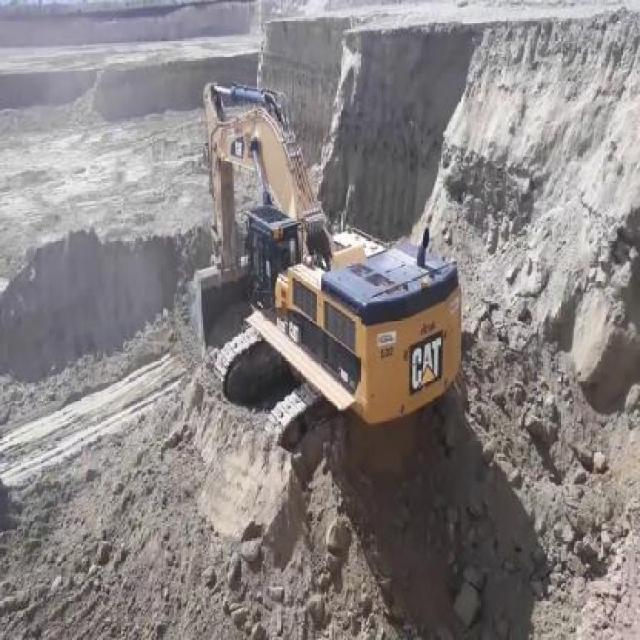excavator: (185, 69, 466, 465)
